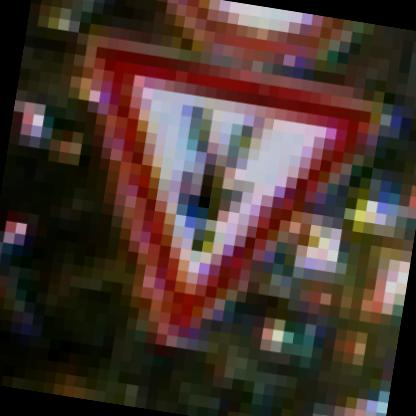crosswalk: (30, 27, 362, 362)
